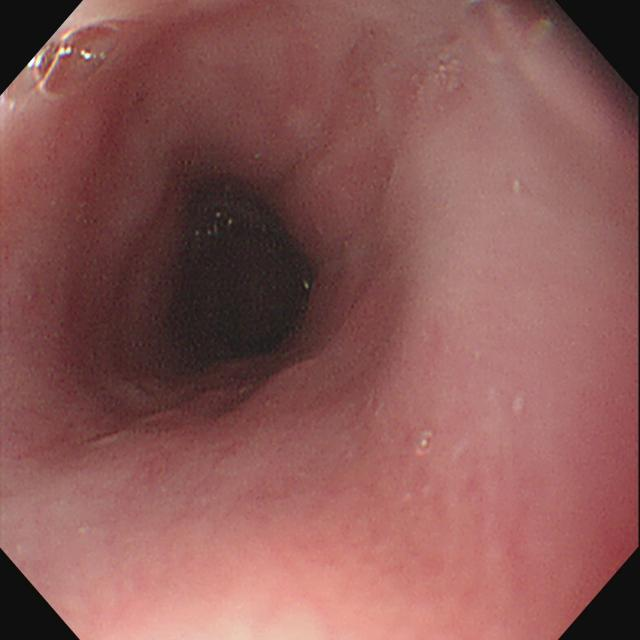E: (179, 208, 307, 350)
T: (31, 22, 118, 105)
